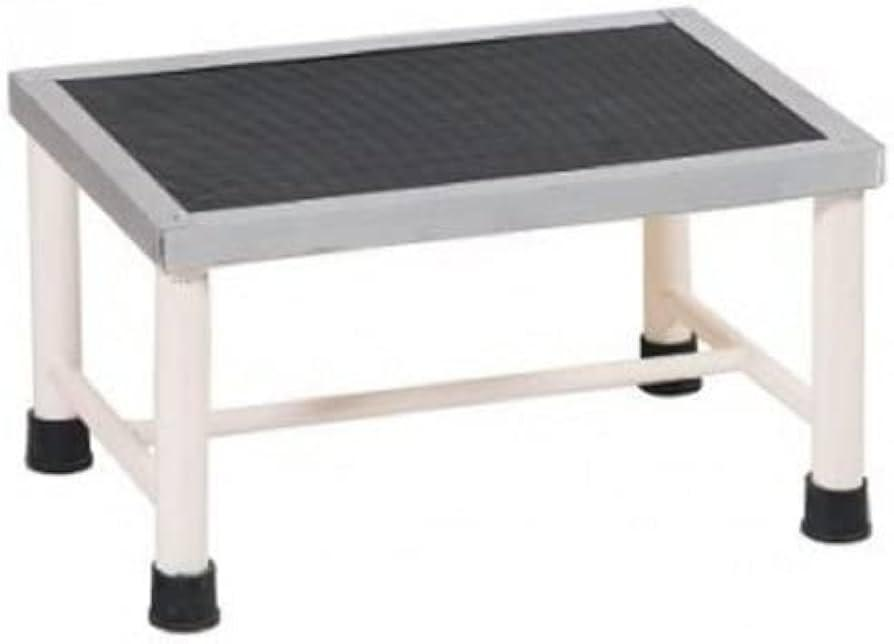stool: (3, 0, 886, 635)
